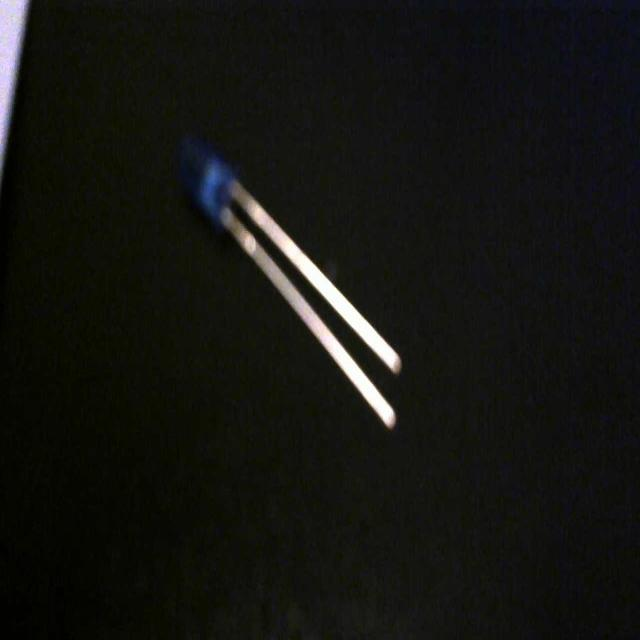blue_led: (177, 130, 403, 431)
